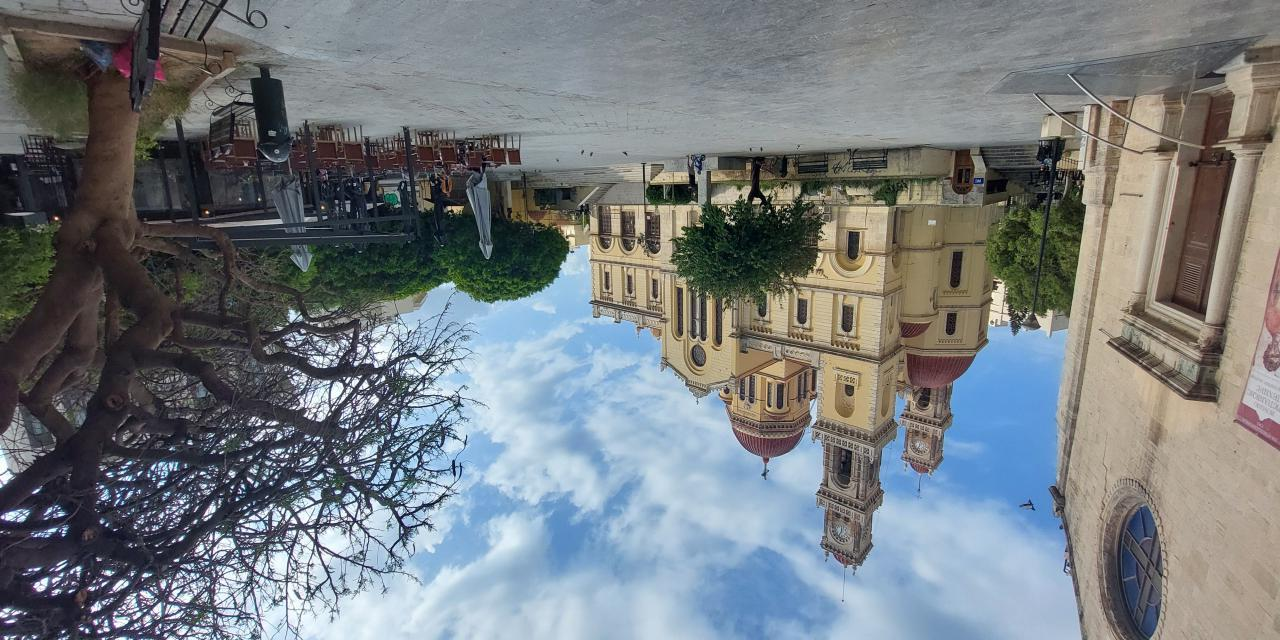Agios Minas: (584, 152, 1004, 592)
